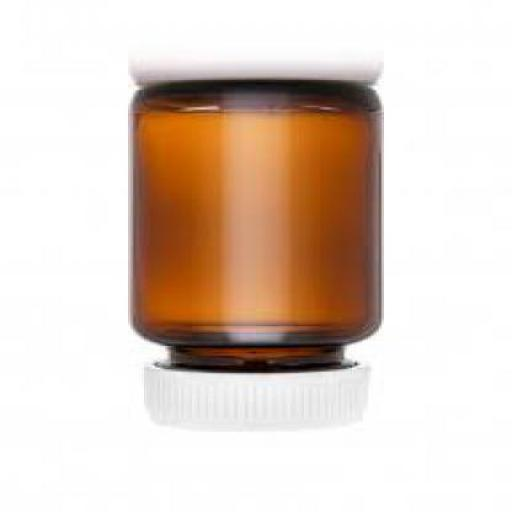glass: (128, 84, 382, 369)
plastic: (142, 368, 368, 432)
